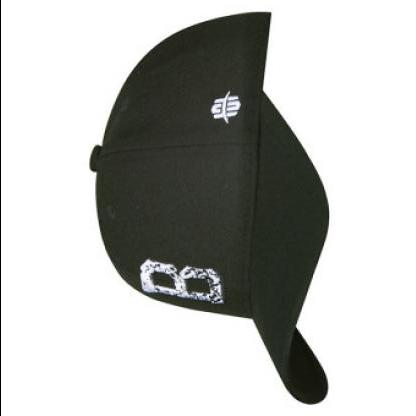cap: (77, 8, 343, 410)
